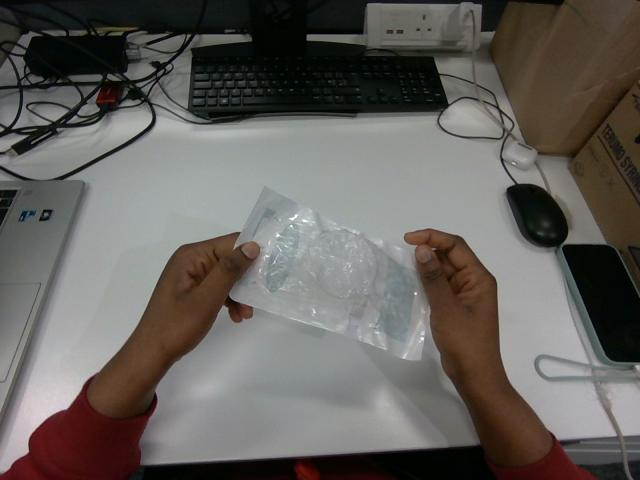gallipot: (230, 188, 427, 359)
